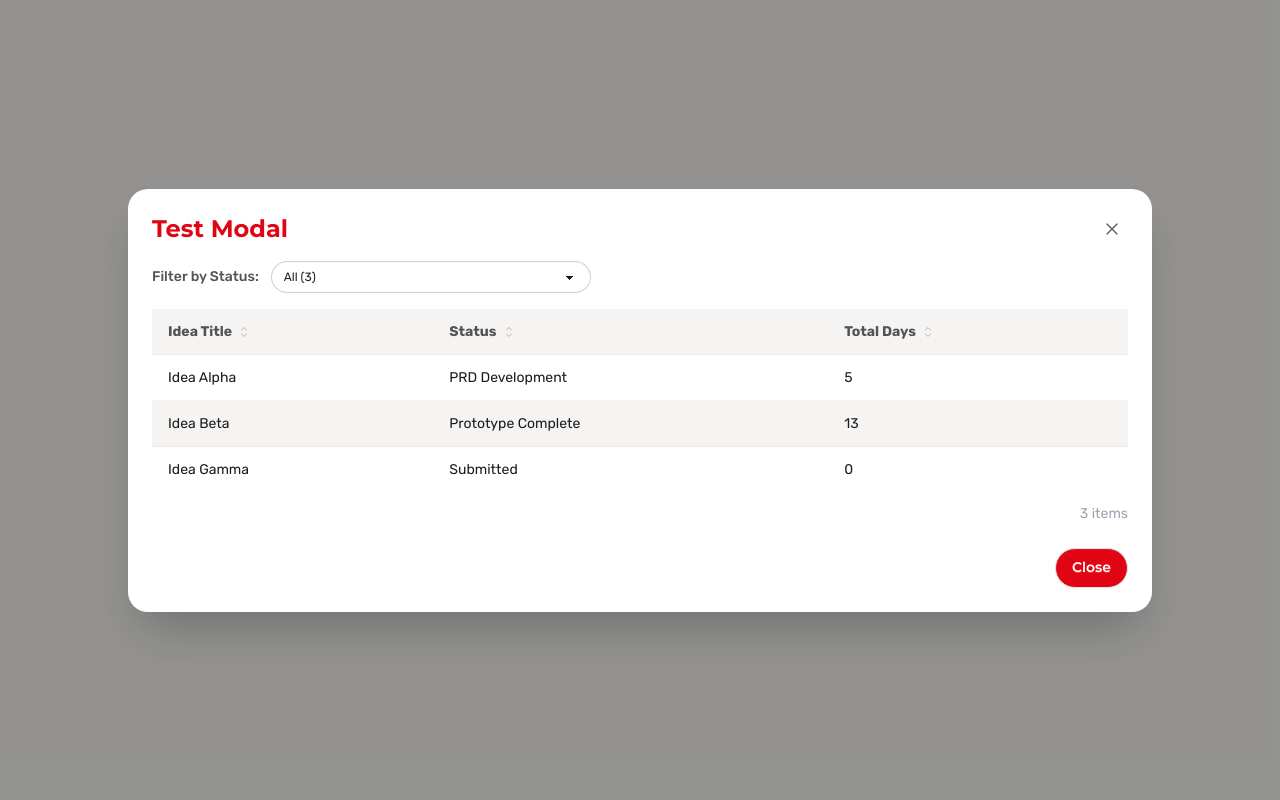
DrillDownModal › should filter data by status when filter is changed
The width and height of the screenshot is (1280, 800).
Note: Find filter dropdown and select 'submitted'
Select "Submitted (1)" in the dropdown labelled "Filter by Status:" at coordinates (431, 276), box 271,260 -> 591,292
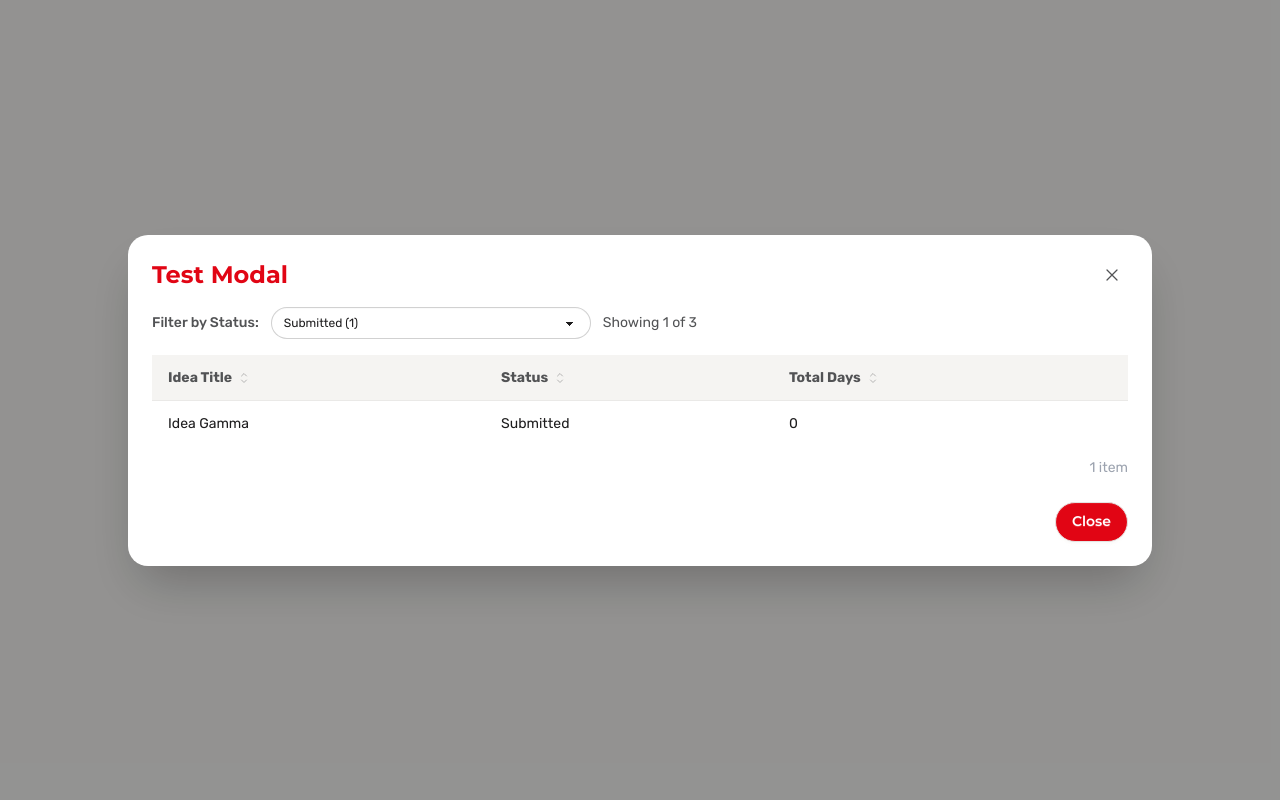
Expected: the text "Idea Gamma" is shown, 152,400 -> 485,446
Expected: the text "Idea Alpha" is gone
Expected: the text "Idea Beta" is gone
